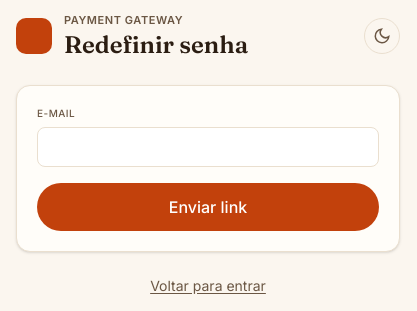
Test case: ForgotPage › saysALinkMayHaveBeenSent
In the field labelled "E-mail": (208, 146) [37,126,379,166], type "ana@loja.com"
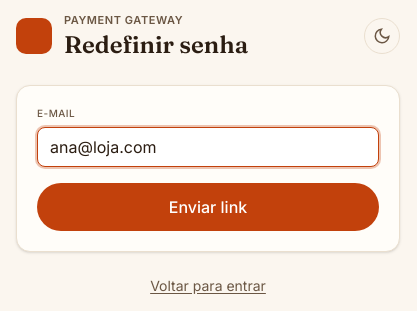
Click the button "Enviar link": (208, 206) [37,182,379,230]
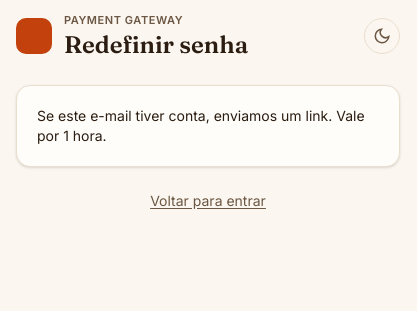
Check: the text "Se este e-mail tiver conta, enviamos um link. Vale por 1 hora." is shown, box [37,106,379,146]
